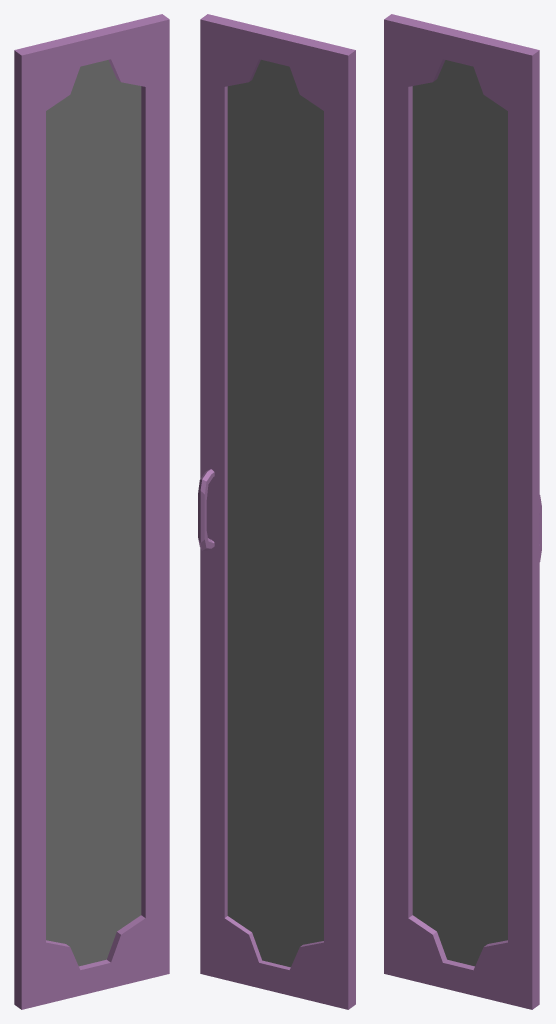
File: PorteArmoire02.fbx
The picture shows the model from 3 angles, left to right: view 1: azimuth 30°, elevation 25°; view 2: azimuth 150°, elevation 25°; view 3: azimuth 330°, elevation 25°; orthographic projection.
Visible parts, largest first — view 1: PorteArmoire02; view 2: PorteArmoire02; view 3: PorteArmoire02.
Part boxes in pixels (x1,y1,x2,y2): PorteArmoire02: (14, 14, 169, 1009); PorteArmoire02: (198, 14, 355, 1009); PorteArmoire02: (384, 14, 541, 1009).
Size of the model in its own units: 30 by 185 by 6.37.
